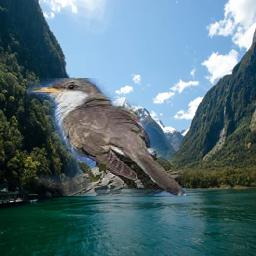Cuckoo: (28, 78, 187, 196)
